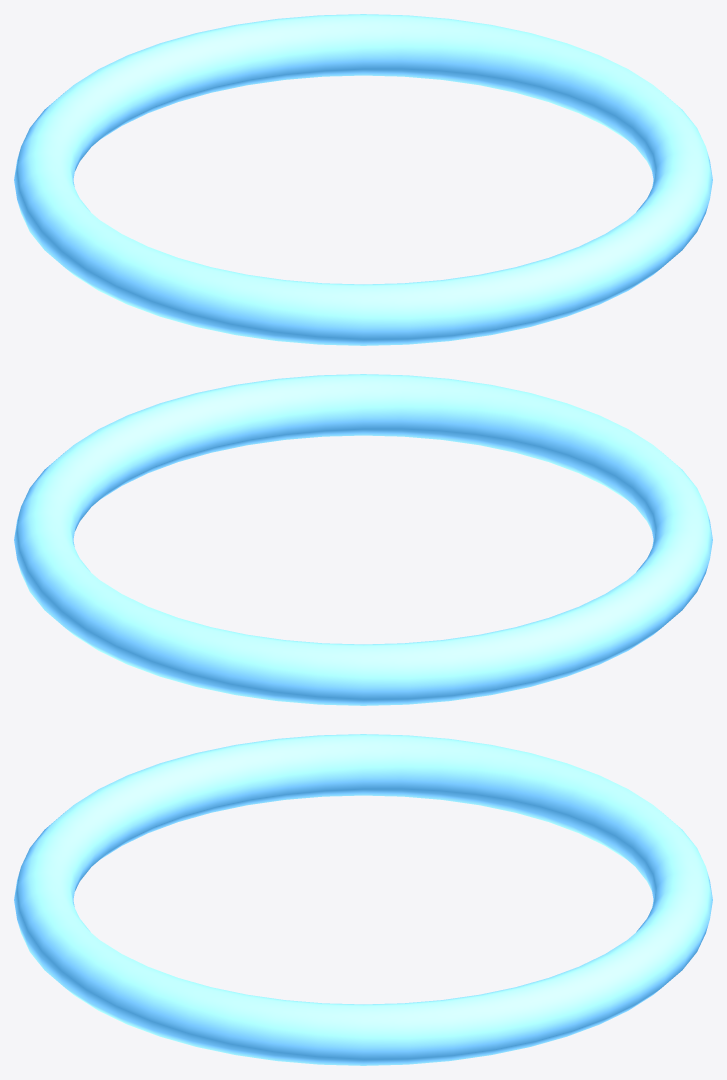
The model's file is pocket.fbx.
3 renders of one model, top to bottom at view 1: azimuth 30°, elevation 25°; view 2: azimuth 150°, elevation 25°; view 3: azimuth 270°, elevation 25°, orthographic.
Visible parts, largest first — view 1: Torus; view 2: Torus; view 3: Torus.
Part boxes in pixels (box(x1,y1,x2,y2)): Torus: box(14, 14, 712, 345); Torus: box(14, 374, 712, 705); Torus: box(14, 734, 712, 1065).
Bounding box in the file's own units: 105 × 9.36 × 105.
